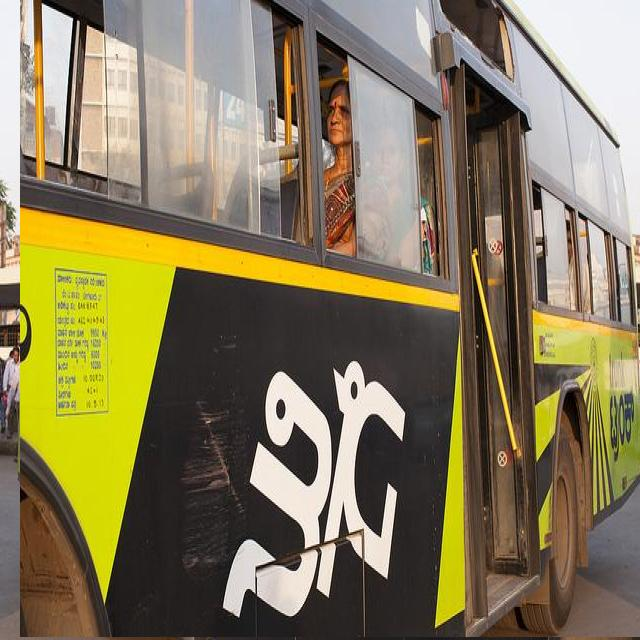bus: (20, 0, 640, 637)
